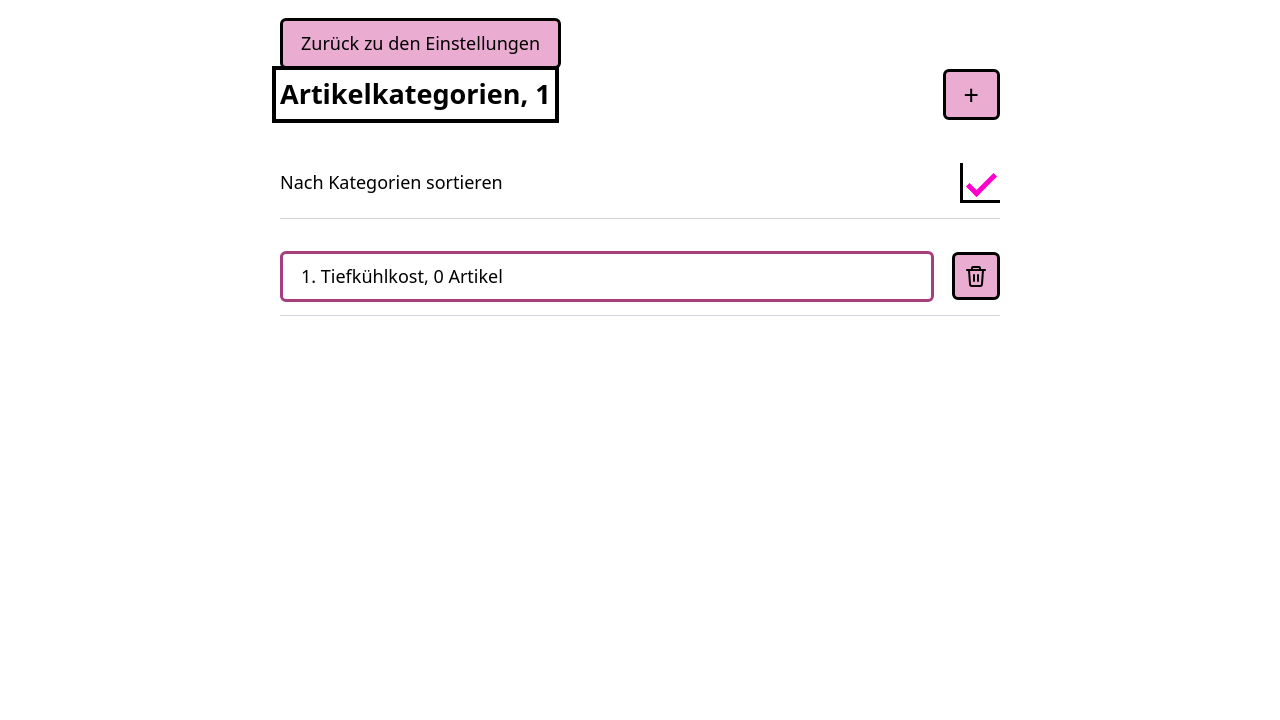
Test: ItemCategoriesArea › refuses a name that is already taken
Click the button named "Artikelkategorie anlegen": (971, 94) [942,69,1000,120]
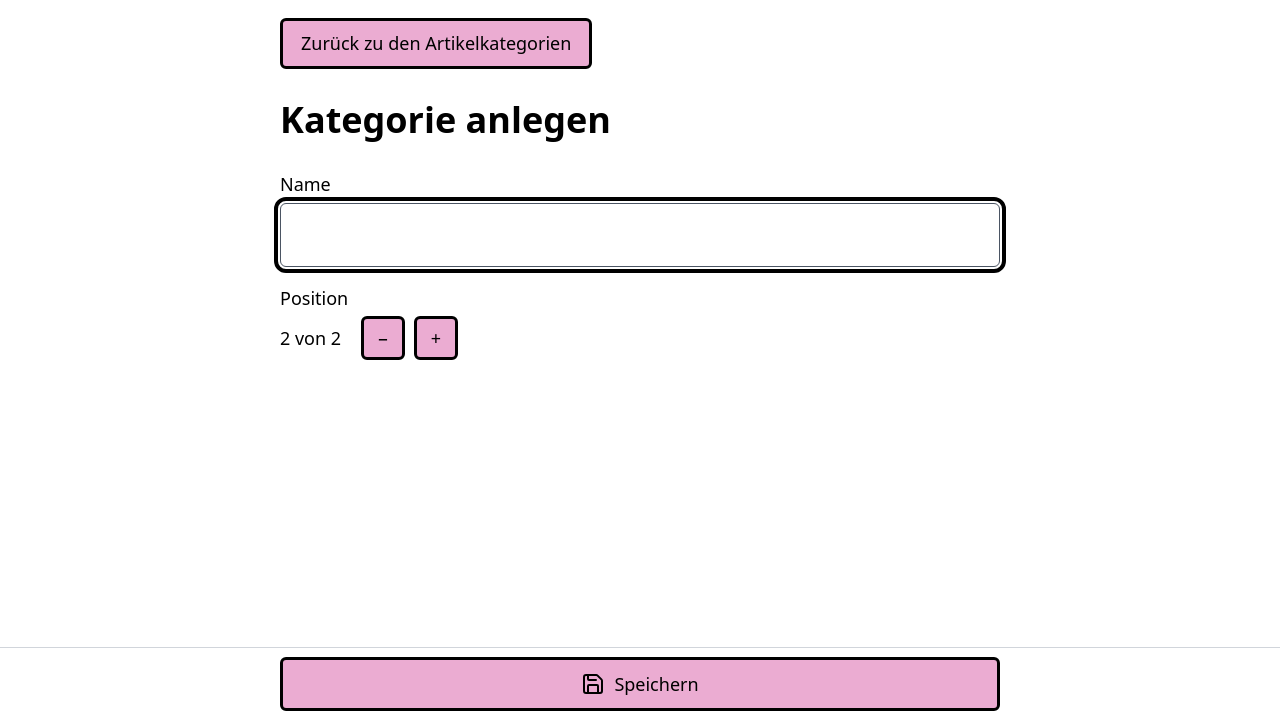
In the field labelled "Name": (640, 235) [280,203,1000,267], type "tiefkühlkost"
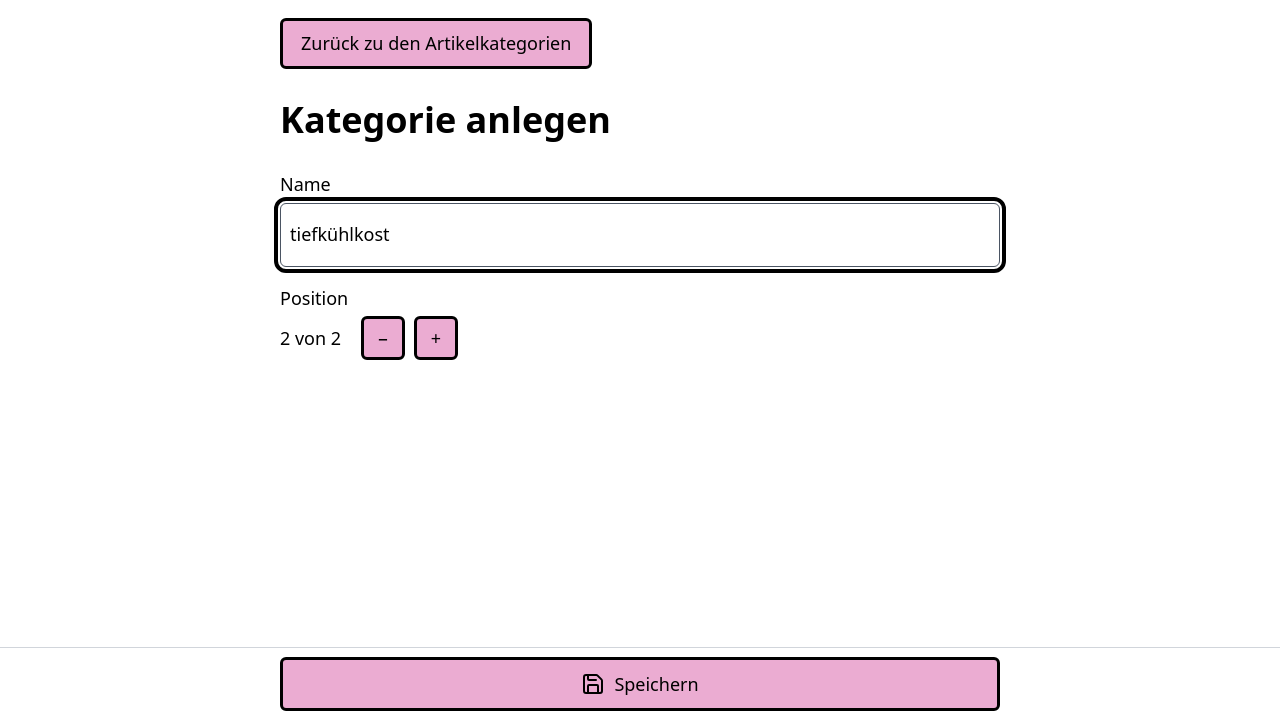
Click the button "Speichern": (640, 684) [280,657,1000,711]
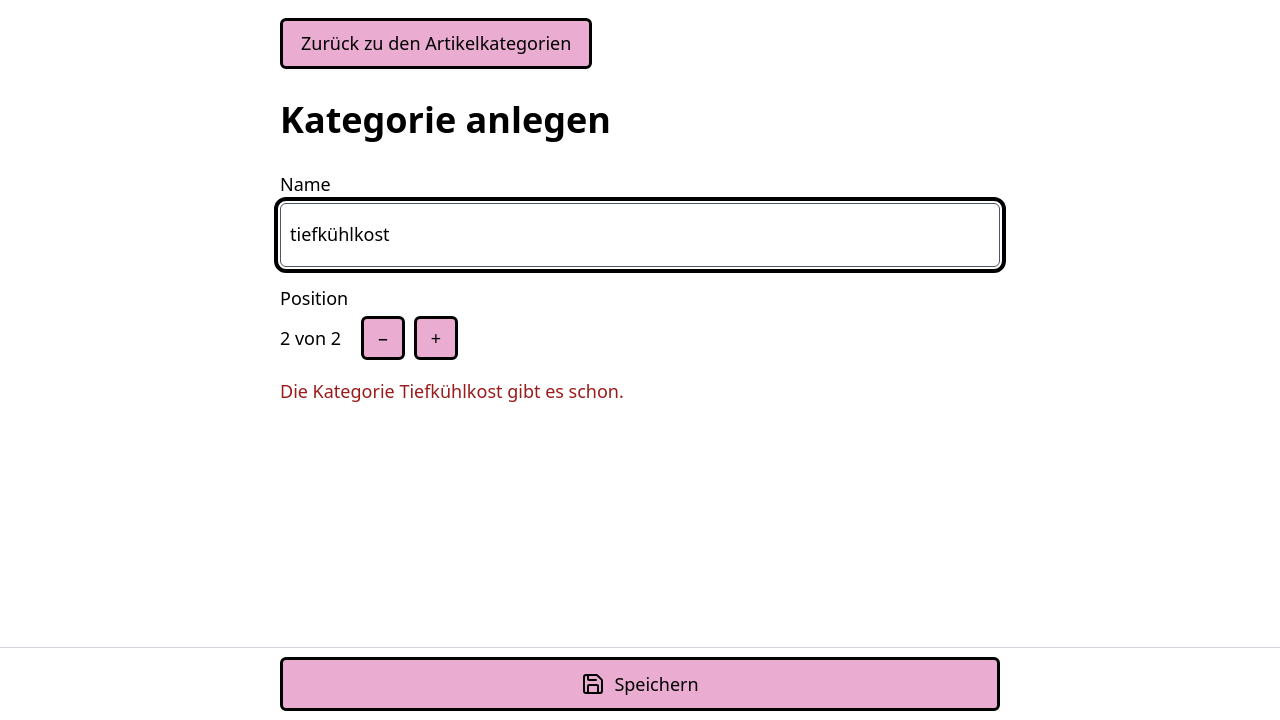
Now the text "Die Kategorie Tiefkühlkost gibt es schon." is shown, box [280,379,624,403]
